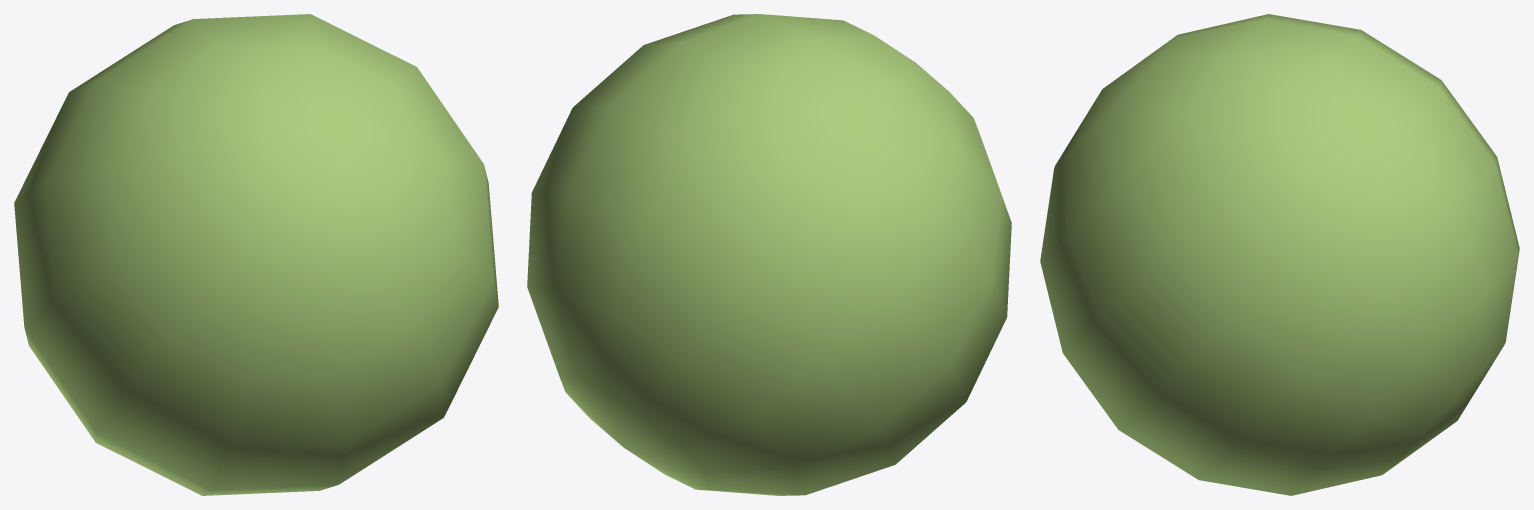
The model's file is jugulodigastric-node-r.glb.
3 renders of one model, left to right at view 1: azimuth 30°, elevation 25°; view 2: azimuth 150°, elevation 25°; view 3: azimuth 270°, elevation 25°, orthographic. The views are drawn at different scales.
Visible parts, largest first — view 1: Jugulodigastric node.r; view 2: Jugulodigastric node.r; view 3: Jugulodigastric node.r.
Boxes of the visible parts, x1,y1,x2,y2 form: Jugulodigastric node.r: (14, 14, 498, 495); Jugulodigastric node.r: (527, 14, 1011, 495); Jugulodigastric node.r: (1040, 14, 1519, 495).
Size of the model in its own units: 0.00258 by 0.00255 by 0.00256.
